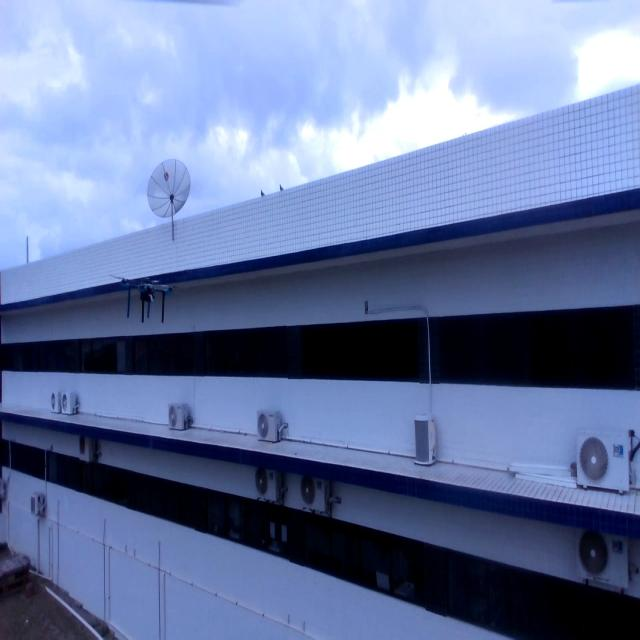-uav-: (108, 256, 178, 335)
